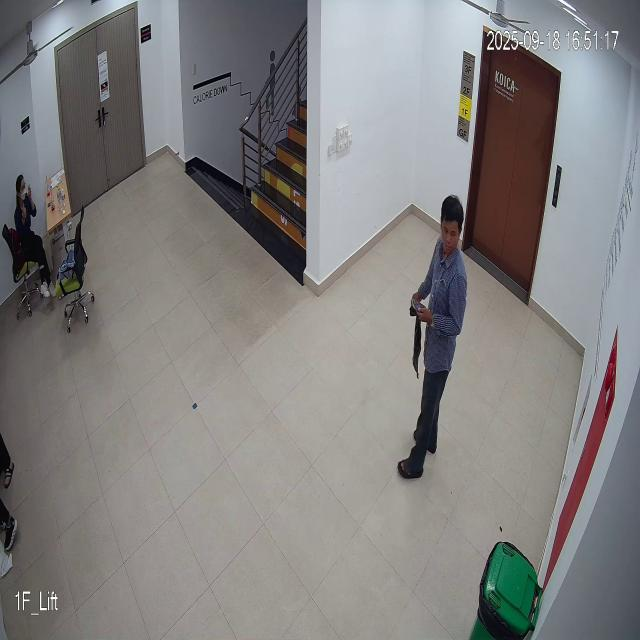face: (435, 191, 463, 261)
